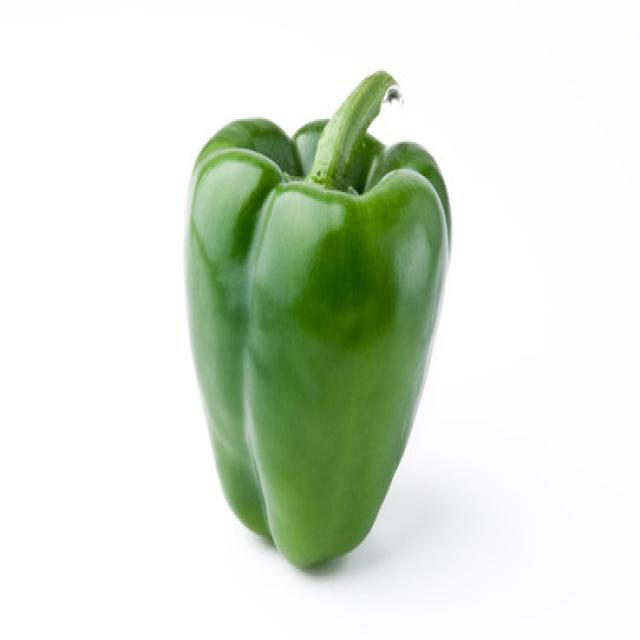Bell Pepper: (182, 68, 452, 570)
